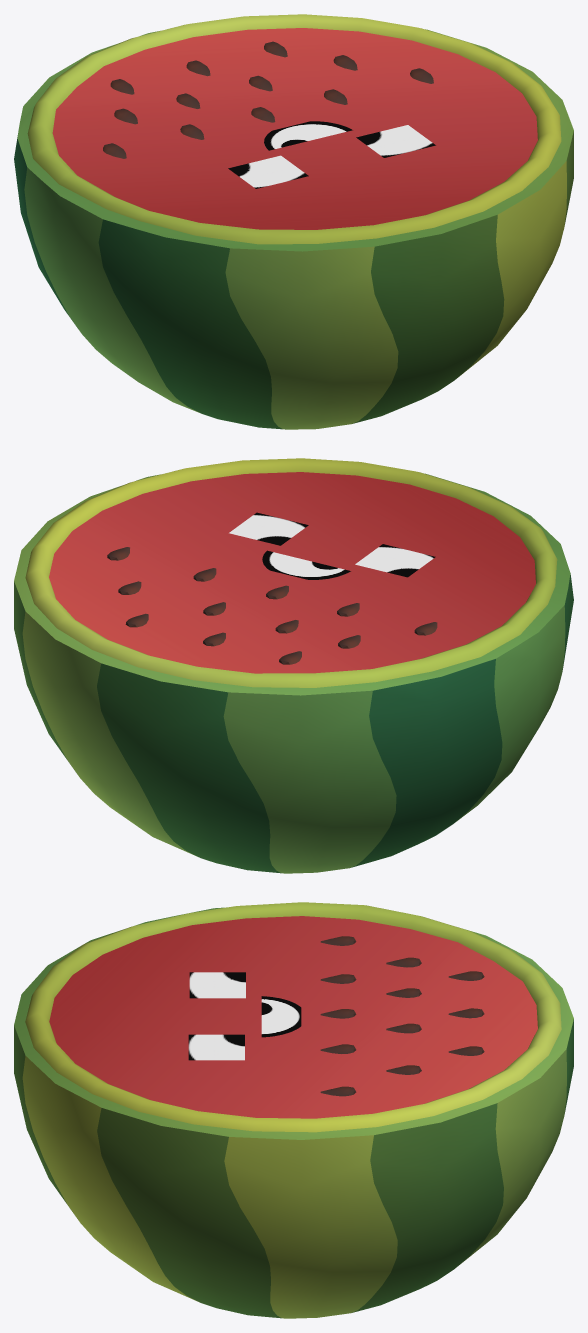
Rendered from watermelon_half_smile.fbx.
The picture shows the model from 3 angles, top to bottom: view 1: azimuth 30°, elevation 25°; view 2: azimuth 150°, elevation 25°; view 3: azimuth 270°, elevation 25°; orthographic projection.
Visible parts, largest first — view 1: watermelon_half; view 2: watermelon_half; view 3: watermelon_half.
Boxes of the visible parts, x1=… form: watermelon_half: x1=14, y1=14, x2=573, y2=429; watermelon_half: x1=14, y1=458, x2=573, y2=873; watermelon_half: x1=14, y1=902, x2=573, y2=1318.
Size of the model in its own units: 87.37 by 47.82 by 87.09.
